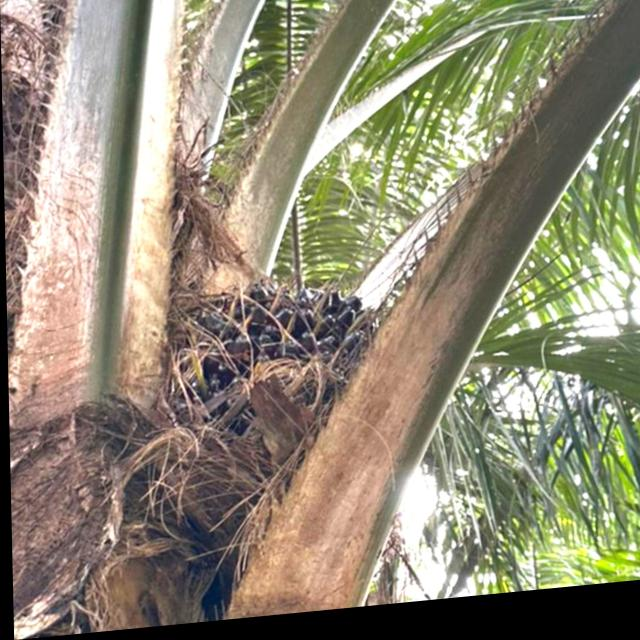almost: (168, 256, 400, 480)
